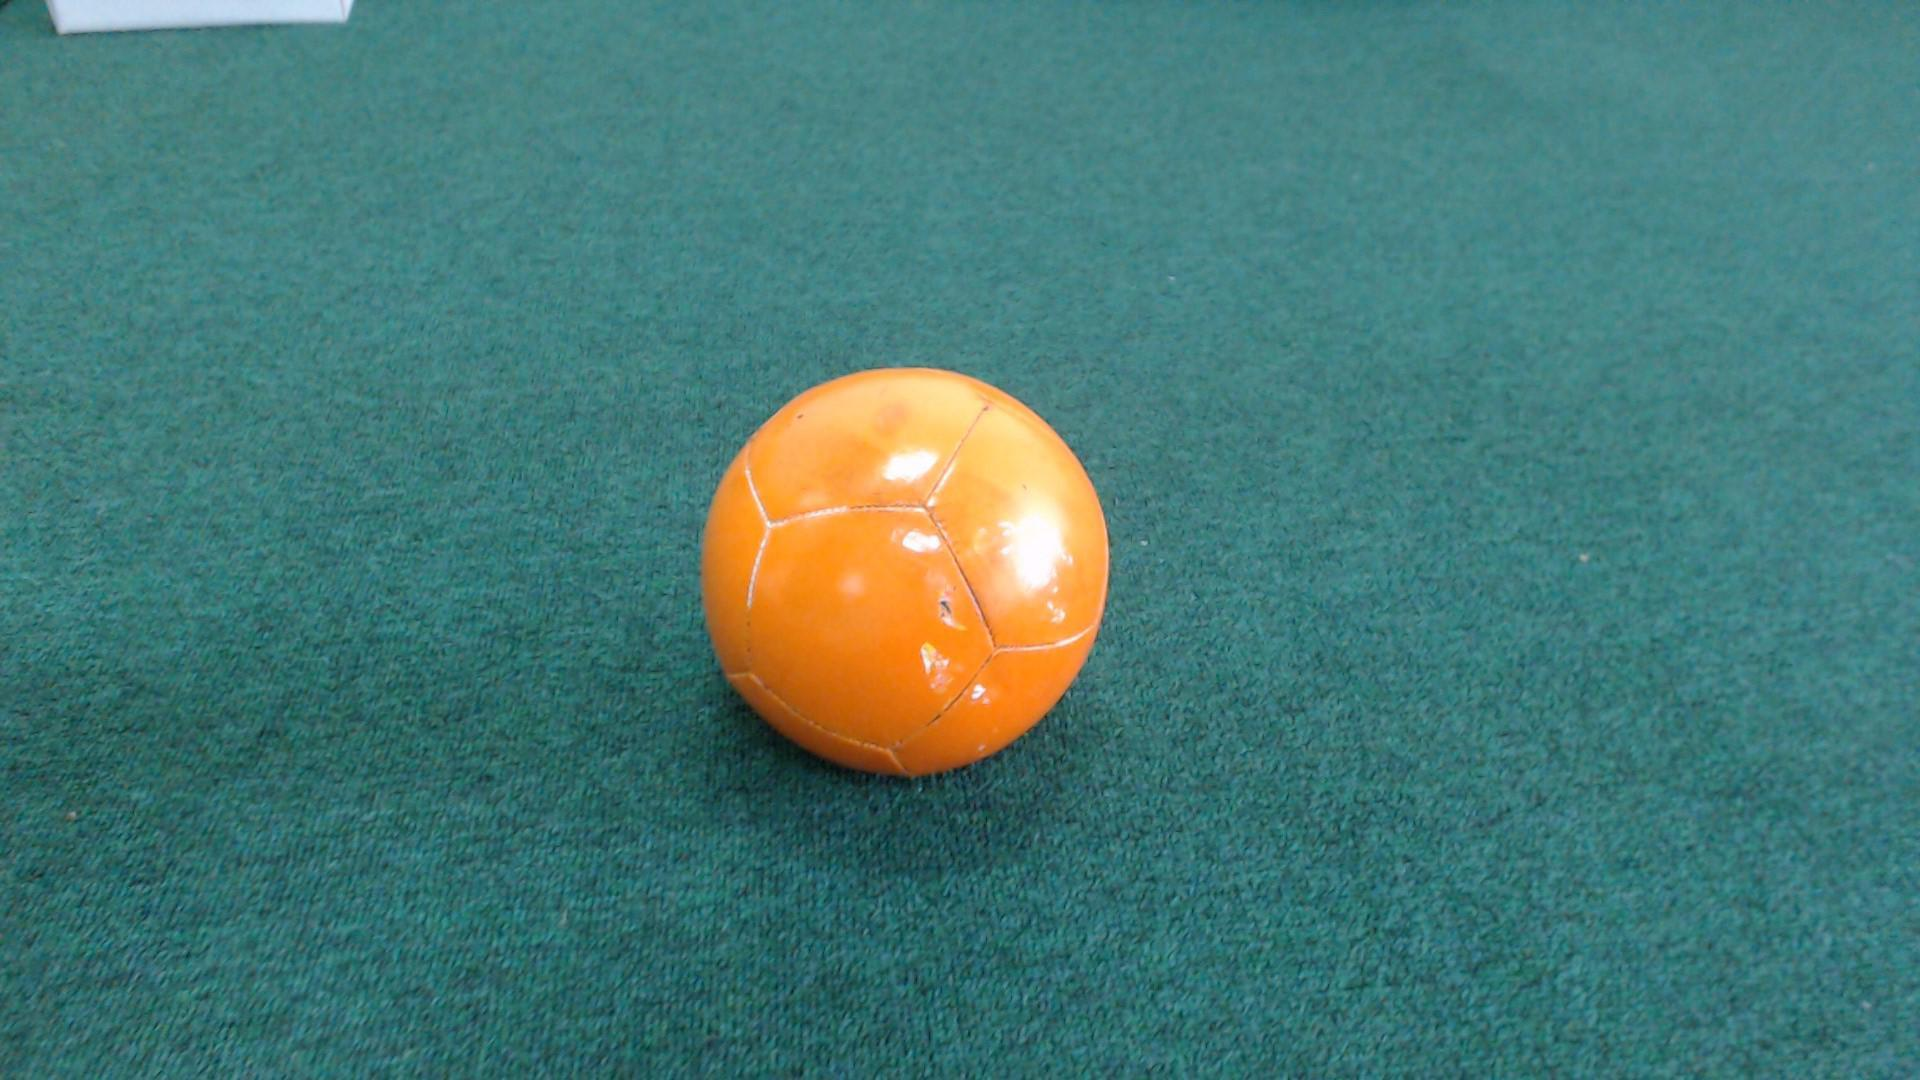bola: (679, 356, 1134, 779)
